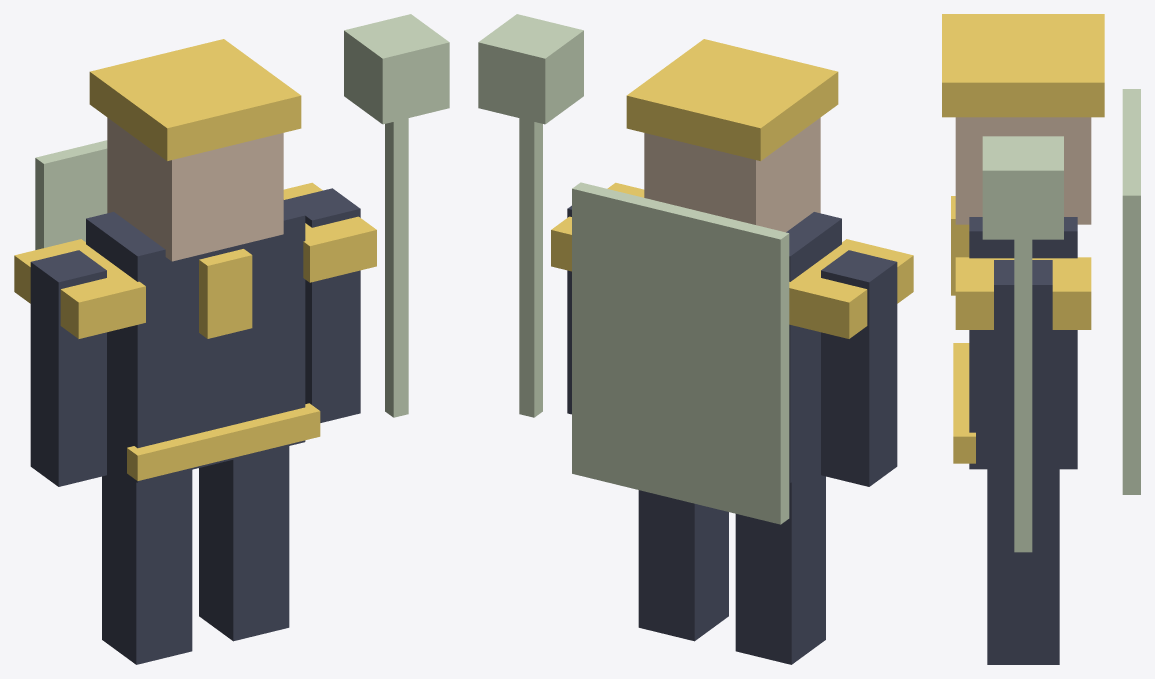
The model's file is 10_juno_riftwalker_fixer_from_geometry.glb.
The picture shows the model from 3 angles, left to right: view 1: azimuth 30°, elevation 25°; view 2: azimuth 150°, elevation 25°; view 3: azimuth 270°, elevation 25°; orthographic projection. The views are drawn at different scales.
Visible parts, largest first — view 1: Juno Riftwalker, Fixer from Geometry; view 2: Juno Riftwalker, Fixer from Geometry; view 3: Juno Riftwalker, Fixer from Geometry.
Boxes of the visible parts, x1,y1,x2,y2 form: Juno Riftwalker, Fixer from Geometry: (14, 14, 449, 664); Juno Riftwalker, Fixer from Geometry: (478, 14, 913, 664); Juno Riftwalker, Fixer from Geometry: (942, 14, 1140, 664).
Size of the model in its own units: 1.05 by 1.44 by 0.4479.
